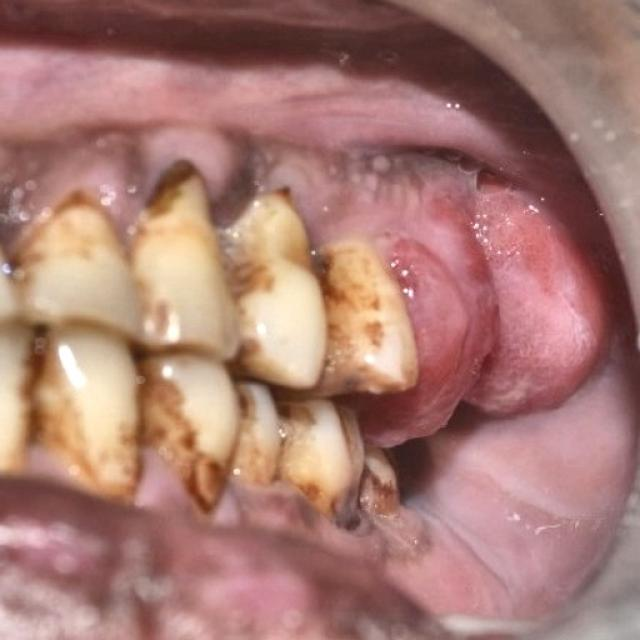cancer-detection: (0, 123, 603, 446), (126, 480, 449, 569)
processing_area: (0, 31, 639, 639)
